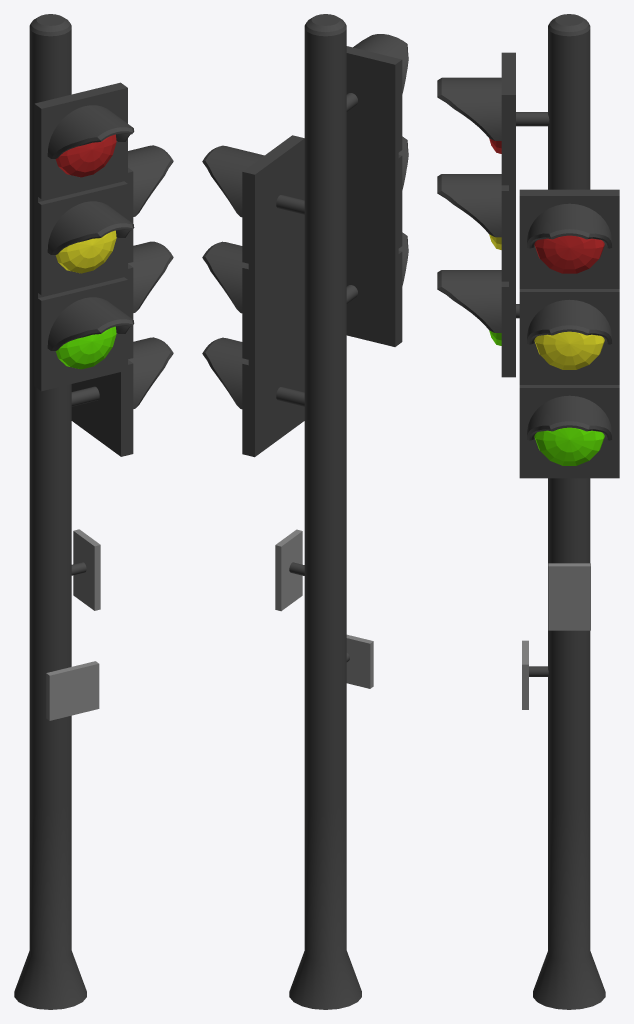
File: TraficLight#2.fbx
3 renders of one model, left to right at view 1: azimuth 30°, elevation 25°; view 2: azimuth 150°, elevation 25°; view 3: azimuth 270°, elevation 25°, orthographic.
Visible parts, largest first — view 1: Cylinder003; view 2: Cylinder003; view 3: Cylinder003.
Boxes of the visible parts, x1=… form: Cylinder003: x1=14, y1=14, x2=173, y2=1009; Cylinder003: x1=202, y1=14, x2=408, y2=1009; Cylinder003: x1=437, y1=14, x2=619, y2=1009.
Size of the model in its own units: 2084 by 12387 by 2097.
